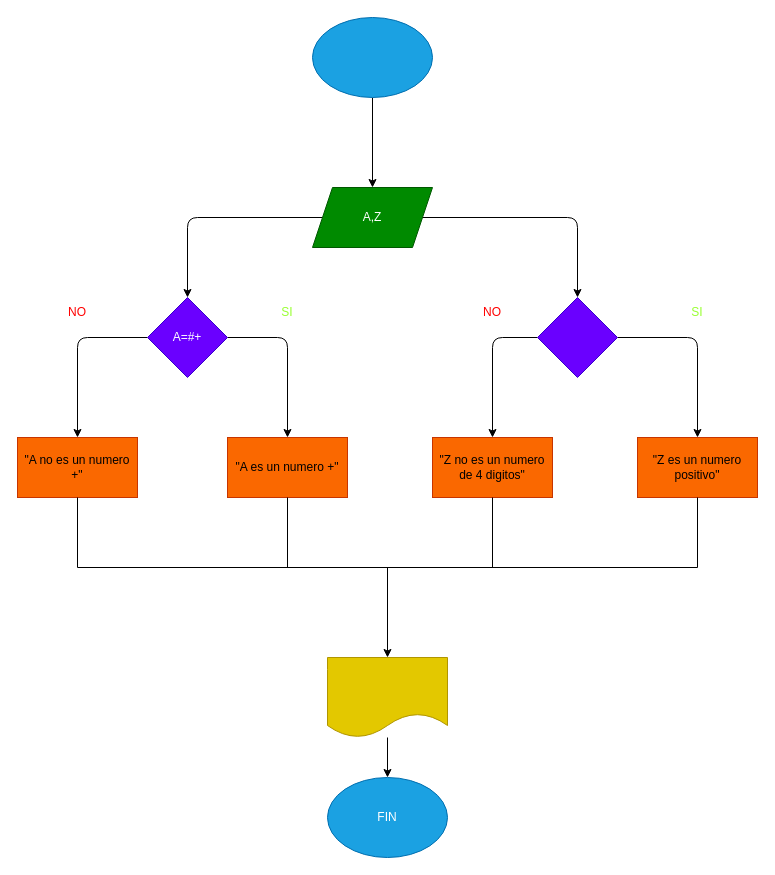
This 775x875 diagram has some shape labels left out. Each missing label, with the centre of its shape:
INICIO: (x=372, y=57)
rta = + rt = <=9999>=1000: (x=387, y=697)
Z>=1000 Z<=9999: (x=577, y=337)
